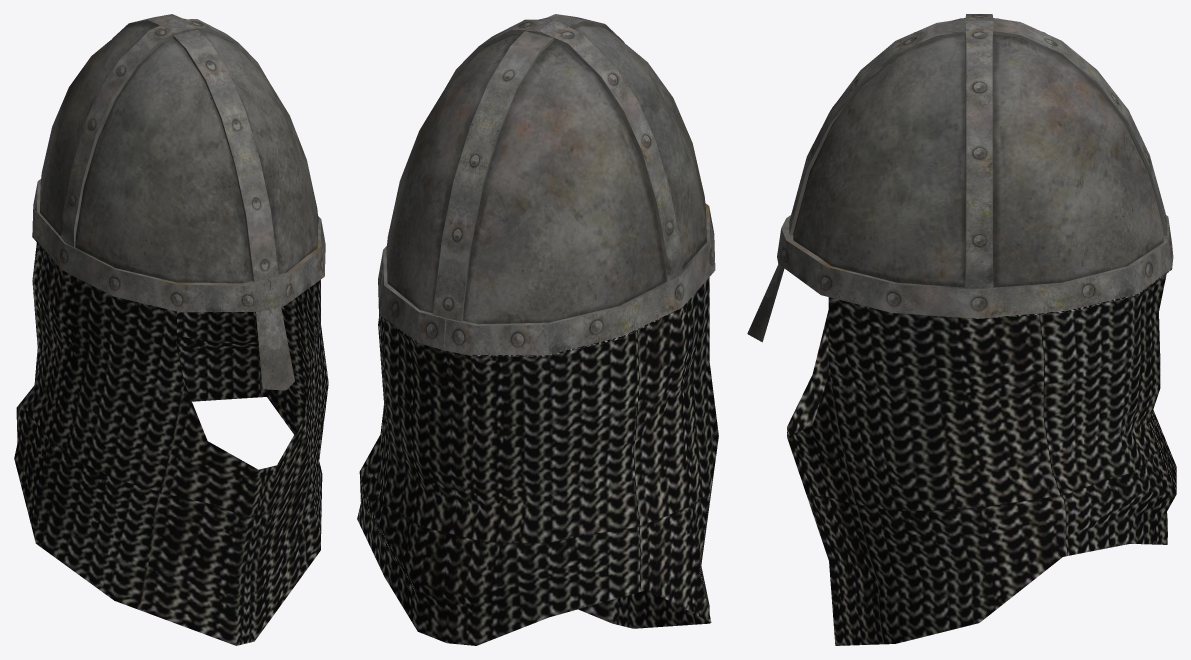
The model's file is anglo_saxon_helm3.glb.
3 renders of one model, left to right at view 1: azimuth 30°, elevation 25°; view 2: azimuth 150°, elevation 25°; view 3: azimuth 270°, elevation 25°, orthographic. The views are drawn at different scales.
Parts seen in each view (by area): view 1: yebra; view 2: yebra; view 3: yebra.
Part boxes in pixels (left/top/right/bottom): yebra: left=14, top=14, right=328, bottom=645; yebra: left=357, top=14, right=718, bottom=645; yebra: left=747, top=14, right=1176, bottom=645.
Bounding box in the file's own units: 0.24 × 0.4571 × 0.2871.
1 material, 1 textured.
